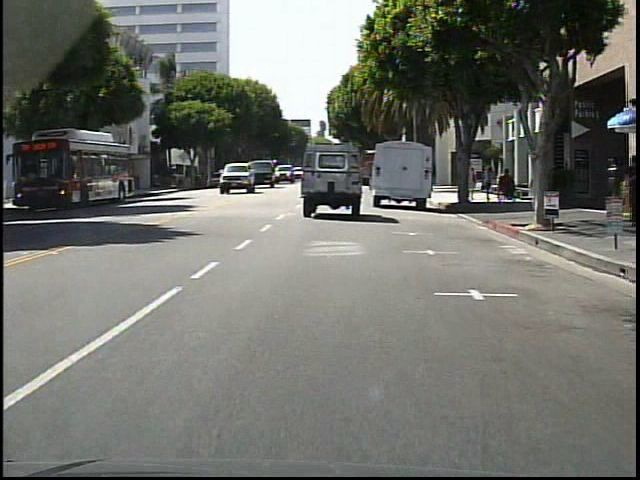person: (465, 160, 478, 203), (483, 165, 497, 204)
